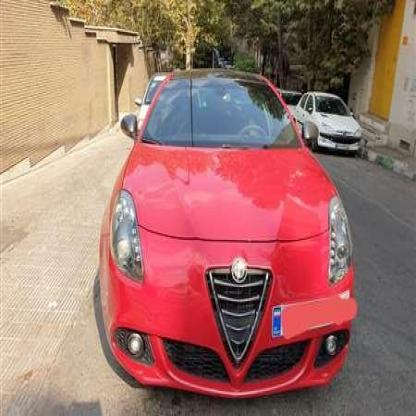Car: (96, 68, 357, 415), (300, 83, 364, 162), (124, 76, 187, 137)
